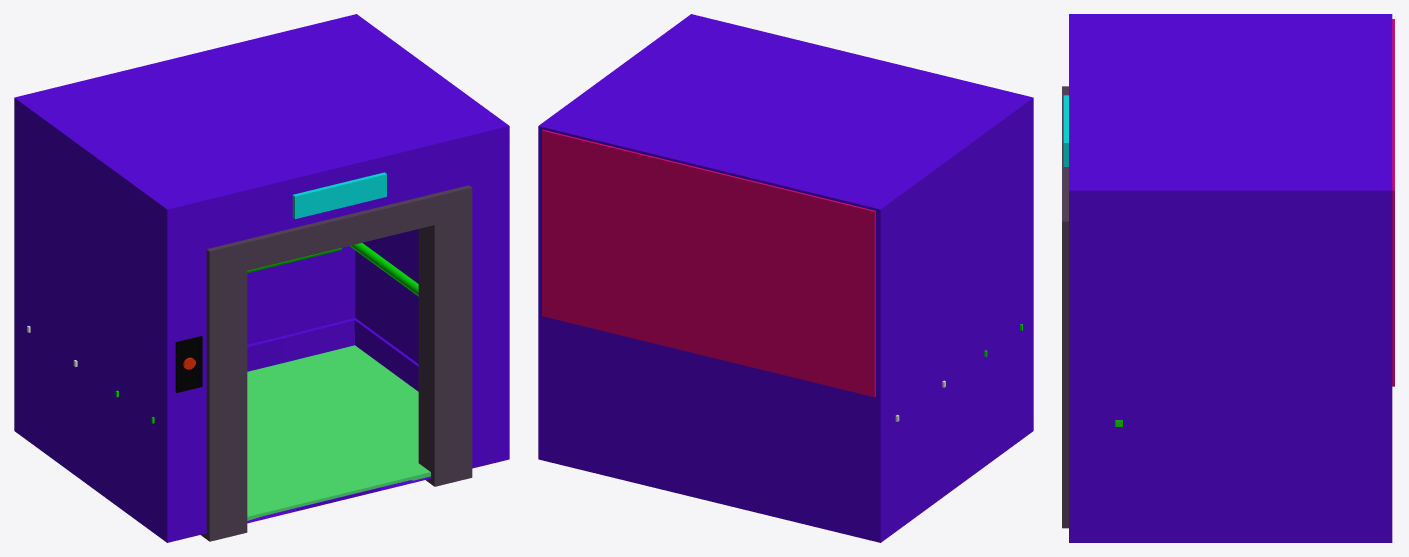
The picture shows the model from 3 angles, left to right: view 1: azimuth 30°, elevation 25°; view 2: azimuth 150°, elevation 25°; view 3: azimuth 270°, elevation 25°; orthographic projection. The views are drawn at different scales.
Visible parts, largest first — view 1: Cube, Plane.002, Cube.006, Cube.004, Cylinder, Cylinder.005; view 2: Cube, Cube.005; view 3: Cube, Plane.002, Cube.005, Cube.004.
Part boxes in pixels (bbox=[...]): Cube: bbox=[14, 14, 509, 542]; Plane.002: bbox=[201, 185, 472, 541]; Cube.006: bbox=[247, 345, 430, 520]; Cube.004: bbox=[292, 172, 386, 218]; Cylinder: bbox=[175, 336, 202, 392]; Cylinder.005: bbox=[350, 243, 418, 296]; Cube: bbox=[538, 14, 1033, 542]; Cube.005: bbox=[542, 129, 875, 397]; Cube: bbox=[1069, 14, 1392, 542]; Plane.002: bbox=[1062, 86, 1068, 528]; Cube.005: bbox=[1392, 19, 1394, 386]; Cube.004: bbox=[1063, 95, 1068, 166].
Bounding box in the file's own units: 335 × 313 × 264.
